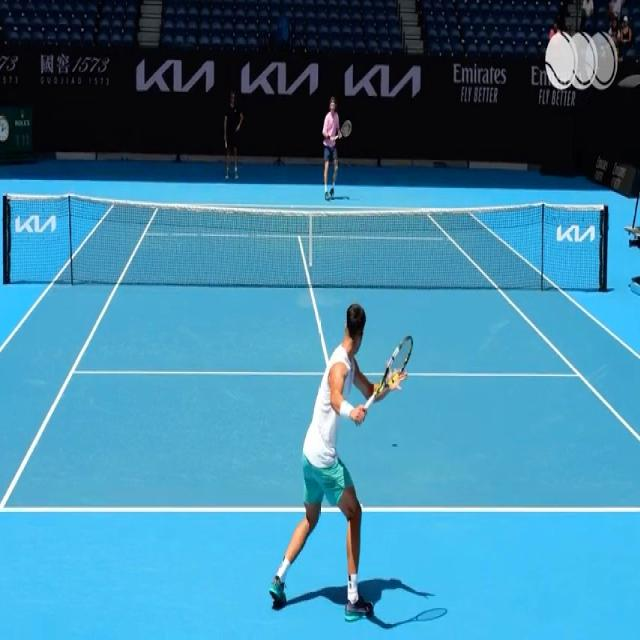forehand-ready: (264, 294, 413, 616)
